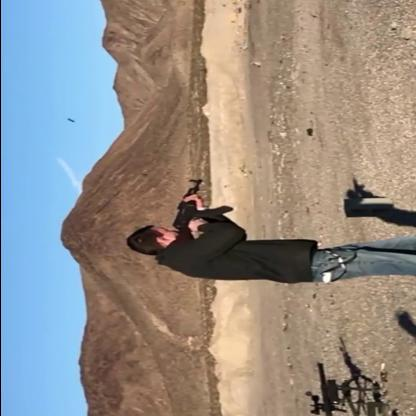long weapon: (158, 177, 234, 247)
